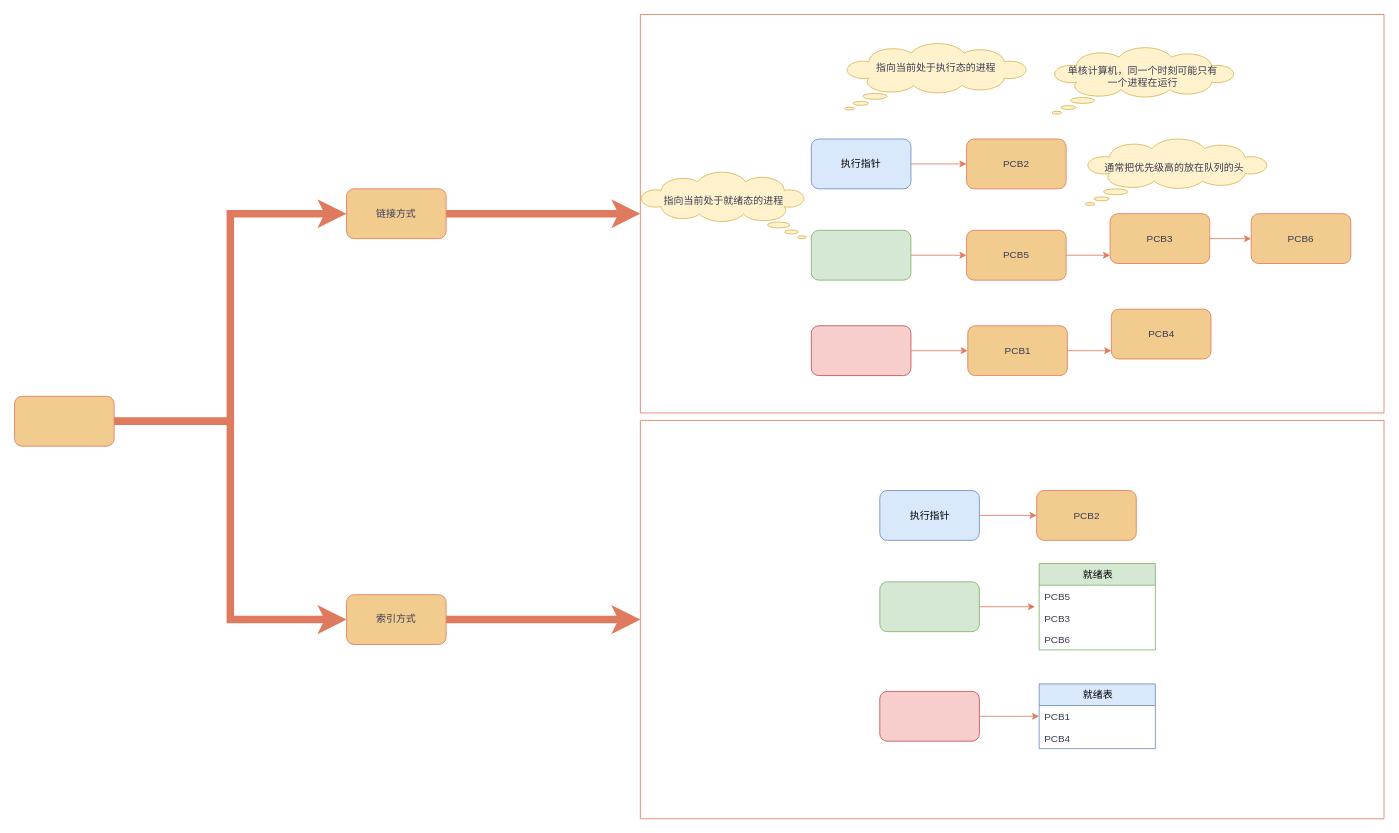
Some shapes in this 1399 by 833 pixel diagram are drawn without their labels. The centre of each missing label's shape, as x and y in pixels:
"就绪表指针" belongs at pixel 929 606.
"就绪队列指针" belongs at pixel 860 254.
"进程的组织方式" belongs at pixel 64 420.
"阻塞表指针" belongs at pixel 929 716.
"阻塞队列指针" belongs at pixel 860 350.
